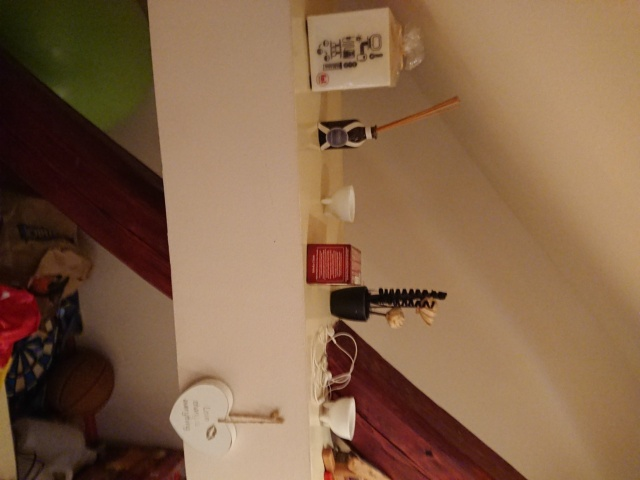Franck Apple Cinnamon Tea 60g: (303, 240, 365, 289)
